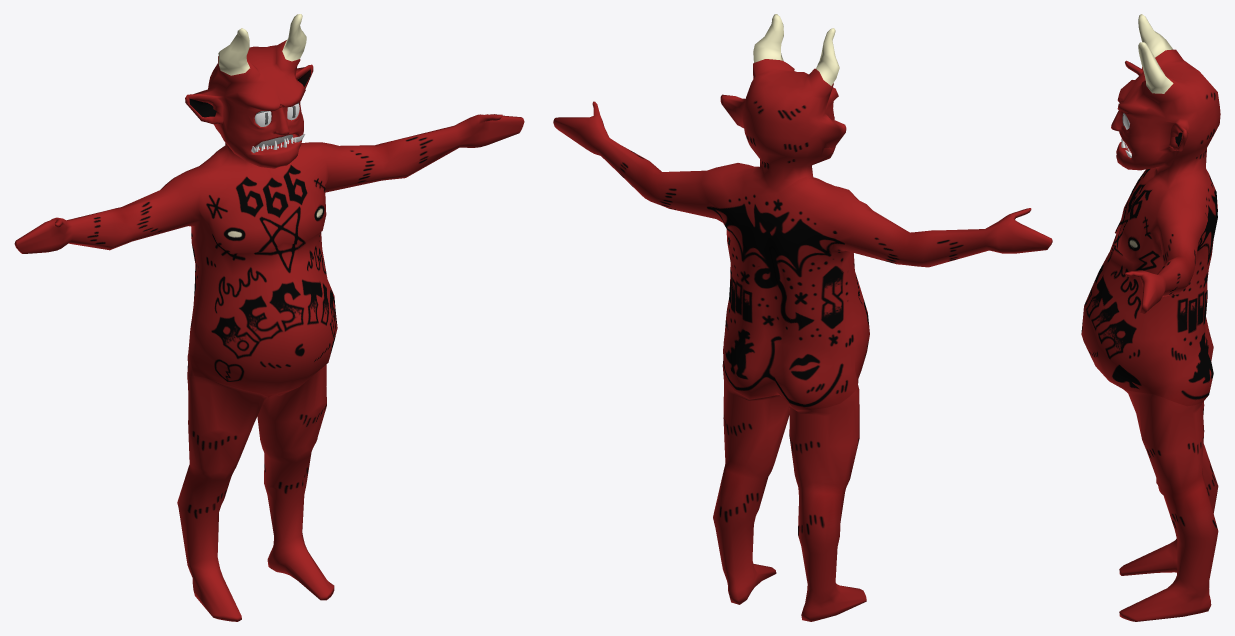
3 renders of one model, left to right at view 1: azimuth 30°, elevation 25°; view 2: azimuth 150°, elevation 25°; view 3: azimuth 270°, elevation 25°, orthographic. The views are drawn at different scales.
Parts seen in each view (by area): view 1: Cuerpo.2; view 2: Cuerpo.2; view 3: Cuerpo.2.
Boxes of the visible parts, x1,y1,x2,y2 form: Cuerpo.2: [14, 14, 524, 621]; Cuerpo.2: [553, 14, 1052, 621]; Cuerpo.2: [1081, 14, 1220, 621].
Size of the model in its own units: 149 by 163 by 36.26.
Materials: 30 (1 with a texture image).
